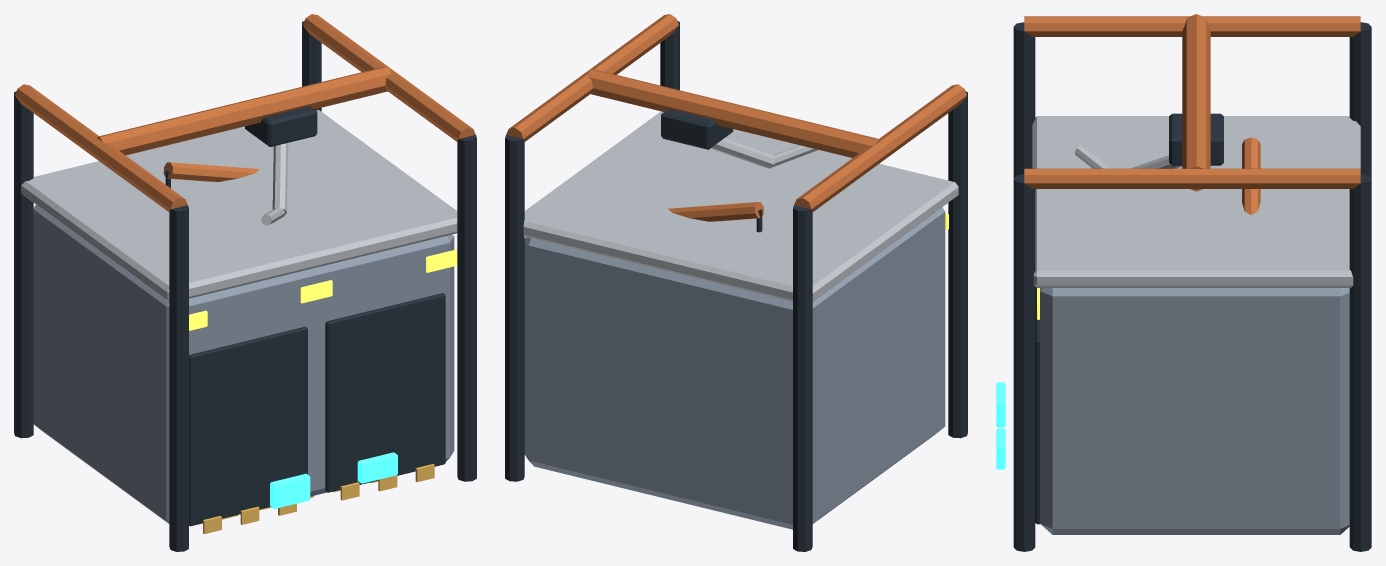
Rendered from fabrication_bay.glb.
3 renders of one model, left to right at view 1: azimuth 30°, elevation 25°; view 2: azimuth 150°, elevation 25°; view 3: azimuth 270°, elevation 25°, orthographic. The views are drawn at different scales.
Visible parts, largest first — view 1: Fabrication | hangar.001__Facility_fabrication_bay_T2, Fabrication | roof.001__Facility_fabrication_bay_T2, Fabrication | door.002__Facility_fabrication_bay_T2, Fabrication | door.001__Facility_fabrication_bay_T2, Fabrication | gantry beam__Facility_fabrication_bay_T2, Fabrication | gantry post.002__Facility_fabrication_bay_T2, Fabrication | gantry post__Facility_fabrication_bay_T2, Fabrication | gantry post.001__Facility_fabrication_bay_T2, Fabrication | gantry rail__Facility_fabrication_bay_T2, Fabrication | gantry rail.001__Facility_fabrication_bay_T2, Fabrication | trolley__Facility_fabrication_bay_T2, Fabrication | crane arm__Facility_fabrication_bay_T1 (+6 smaller); view 2: Fabrication | hangar.001__Facility_fabrication_bay_T2, Fabrication | roof.001__Facility_fabrication_bay_T2, Fabrication | gantry beam__Facility_fabrication_bay_T2, Fabrication | gantry post.001__Facility_fabrication_bay_T2, Fabrication | gantry post.003__Facility_fabrication_bay_T2, Fabrication | gantry post__Facility_fabrication_bay_T2, Fabrication | gantry rail__Facility_fabrication_bay_T2, Fabrication | gantry rail.001__Facility_fabrication_bay_T2, Fabrication | trolley__Facility_fabrication_bay_T2, Fabrication | crane arm__Facility_fabrication_bay_T1, Fabrication | gantry post.002__Facility_fabrication_bay_T2, Fabrication | robot arm__Facility_fabrication_bay_T2; view 3: Fabrication | hangar.001__Facility_fabrication_bay_T2, Fabrication | roof.001__Facility_fabrication_bay_T2, Fabrication | gantry post.002__Facility_fabrication_bay_T2, Fabrication | gantry post.003__Facility_fabrication_bay_T2, Fabrication | gantry rail.001__Facility_fabrication_bay_T2, Fabrication | gantry rail__Facility_fabrication_bay_T2, Fabrication | gantry beam__Facility_fabrication_bay_T2, Fabrication | gantry post__Facility_fabrication_bay_T2, Fabrication | gantry post.001__Facility_fabrication_bay_T2, Fabrication | trolley__Facility_fabrication_bay_T2, Fabrication | door.002__Facility_fabrication_bay_T2, Fabrication | crane arm__Facility_fabrication_bay_T1.
Boxes of the visible parts, bbox=[...] form: Fabrication | hangar.001__Facility_fabrication_bay_T2: bbox=[33, 204, 454, 525]; Fabrication | roof.001__Facility_fabrication_bay_T2: bbox=[21, 109, 457, 301]; Fabrication | door.002__Facility_fabrication_bay_T2: bbox=[325, 293, 445, 492]; Fabrication | door.001__Facility_fabrication_bay_T2: bbox=[189, 326, 307, 526]; Fabrication | gantry beam__Facility_fabrication_bay_T2: bbox=[96, 67, 390, 155]; Fabrication | gantry post.002__Facility_fabrication_bay_T2: bbox=[457, 135, 476, 481]; Fabrication | gantry post__Facility_fabrication_bay_T2: bbox=[169, 205, 188, 551]; Fabrication | gantry post.001__Facility_fabrication_bay_T2: bbox=[14, 91, 33, 438]; Fabrication | gantry rail__Facility_fabrication_bay_T2: bbox=[15, 84, 187, 212]; Fabrication | gantry rail.001__Facility_fabrication_bay_T2: bbox=[303, 14, 475, 141]; Fabrication | trolley__Facility_fabrication_bay_T2: bbox=[245, 106, 317, 146]; Fabrication | crane arm__Facility_fabrication_bay_T1: bbox=[163, 162, 259, 181]; Fabrication | hangar.001__Facility_fabrication_bay_T2: bbox=[524, 207, 945, 529]; Fabrication | roof.001__Facility_fabrication_bay_T2: bbox=[523, 111, 958, 301]; Fabrication | gantry beam__Facility_fabrication_bay_T2: bbox=[587, 69, 881, 157]; Fabrication | gantry post.001__Facility_fabrication_bay_T2: bbox=[793, 205, 812, 551]; Fabrication | gantry post.003__Facility_fabrication_bay_T2: bbox=[505, 135, 524, 481]; Fabrication | gantry post__Facility_fabrication_bay_T2: bbox=[948, 91, 967, 438]; Fabrication | gantry rail__Facility_fabrication_bay_T2: bbox=[794, 84, 966, 212]; Fabrication | gantry rail.001__Facility_fabrication_bay_T2: bbox=[506, 14, 678, 141]; Fabrication | trolley__Facility_fabrication_bay_T2: bbox=[661, 109, 733, 149]; Fabrication | crane arm__Facility_fabrication_bay_T1: bbox=[668, 202, 763, 221]; Fabrication | gantry post.002__Facility_fabrication_bay_T2: bbox=[660, 21, 679, 90]; Fabrication | robot arm__Facility_fabrication_bay_T2: bbox=[710, 138, 775, 168]; Fabrication | hangar.001__Facility_fabrication_bay_T2: bbox=[1040, 288, 1349, 534]; Fabrication | roof.001__Facility_fabrication_bay_T2: bbox=[1032, 116, 1360, 287]; Fabrication | gantry post.002__Facility_fabrication_bay_T2: bbox=[1013, 174, 1035, 551]; Fabrication | gantry post.003__Facility_fabrication_bay_T2: bbox=[1349, 174, 1371, 551]; Fabrication | gantry rail.001__Facility_fabrication_bay_T2: bbox=[1024, 168, 1360, 188]; Fabrication | gantry rail__Facility_fabrication_bay_T2: bbox=[1024, 16, 1360, 36]; Fabrication | gantry beam__Facility_fabrication_bay_T2: bbox=[1182, 14, 1210, 191]; Fabrication | gantry post__Facility_fabrication_bay_T2: bbox=[1013, 22, 1035, 177]; Fabrication | gantry post.001__Facility_fabrication_bay_T2: bbox=[1349, 22, 1371, 178]; Fabrication | trolley__Facility_fabrication_bay_T2: bbox=[1169, 113, 1223, 165]; Fabrication | door.002__Facility_fabrication_bay_T2: bbox=[1035, 286, 1039, 524]; Fabrication | crane arm__Facility_fabrication_bay_T1: bbox=[1242, 137, 1260, 215].
Size of the model in its own units: 2.44 by 2.69 by 2.4.
